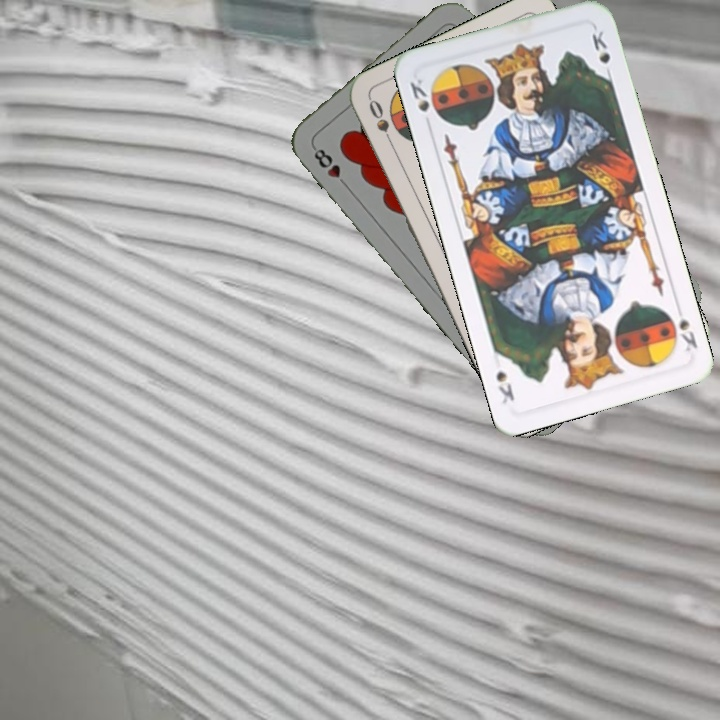H8: (308, 142, 352, 191)
SK: (662, 300, 701, 354), (406, 74, 434, 131)
SO: (364, 95, 397, 151)
